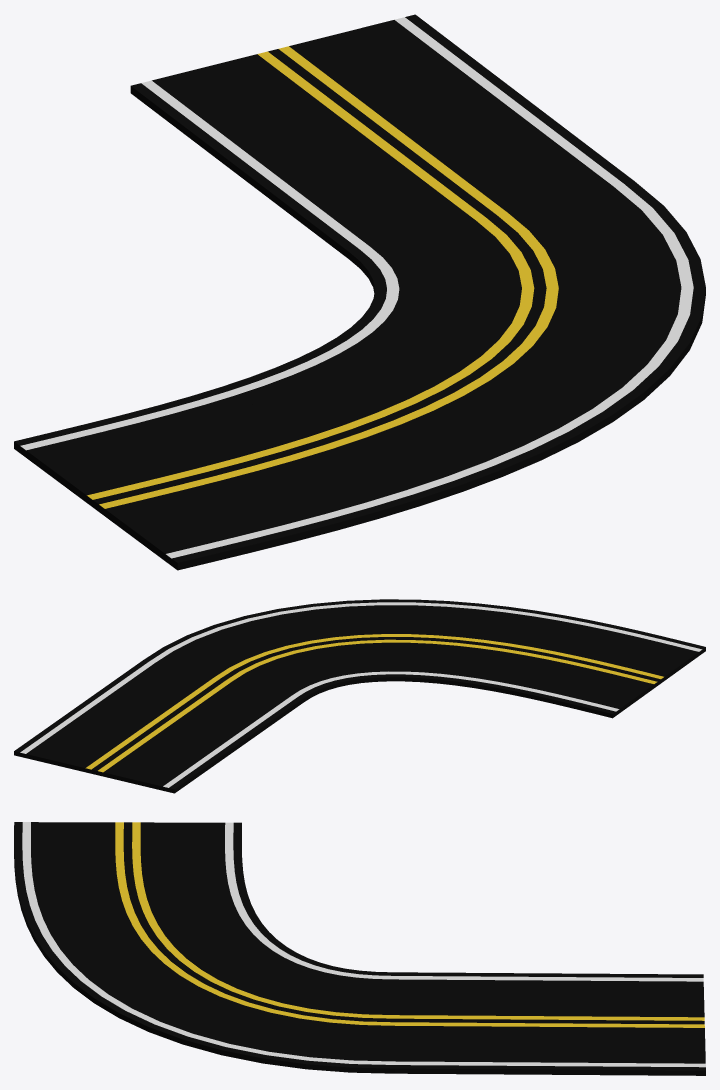
The model's file is LeftTurnRoad.fbx.
The picture shows the model from 3 angles, top to bottom: view 1: azimuth 30°, elevation 25°; view 2: azimuth 150°, elevation 25°; view 3: azimuth 270°, elevation 25°; orthographic projection. The views are drawn at different scales.
Visible parts, largest first — view 1: Cube.001; view 2: Cube.001; view 3: Cube.001.
Part boxes in pixels (bbox=[...]): Cube.001: bbox=[14, 14, 705, 570]; Cube.001: bbox=[14, 599, 705, 793]; Cube.001: bbox=[14, 822, 705, 1075].
Bounding box in the file's own units: 38.63 × 0.371 × 45.43.
